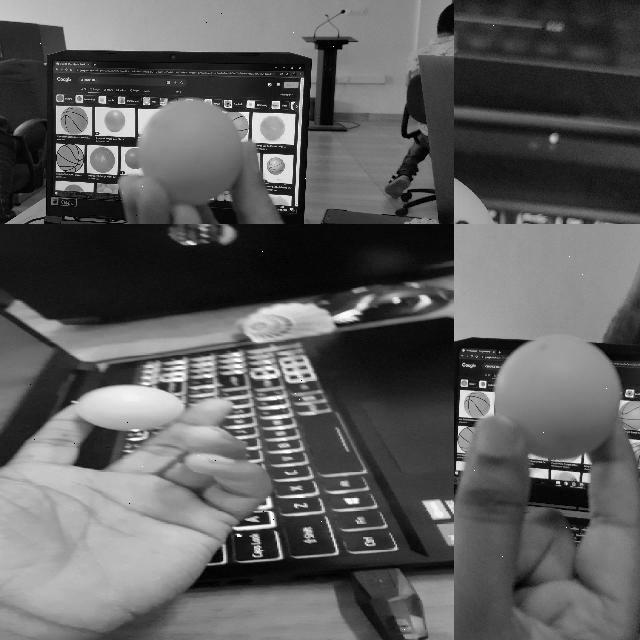ping-pong-ball: (494, 335, 618, 459), (136, 97, 240, 203), (74, 384, 182, 430)
